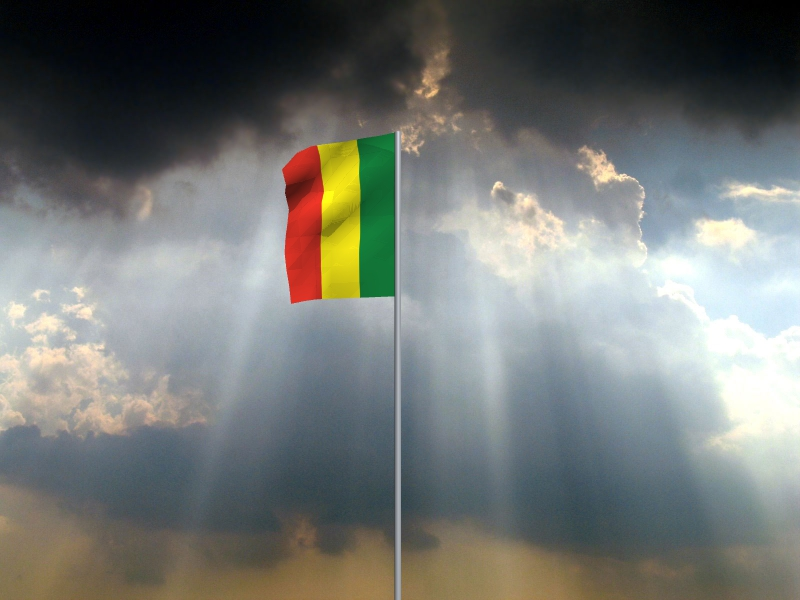bo: (281, 134, 396, 307)
